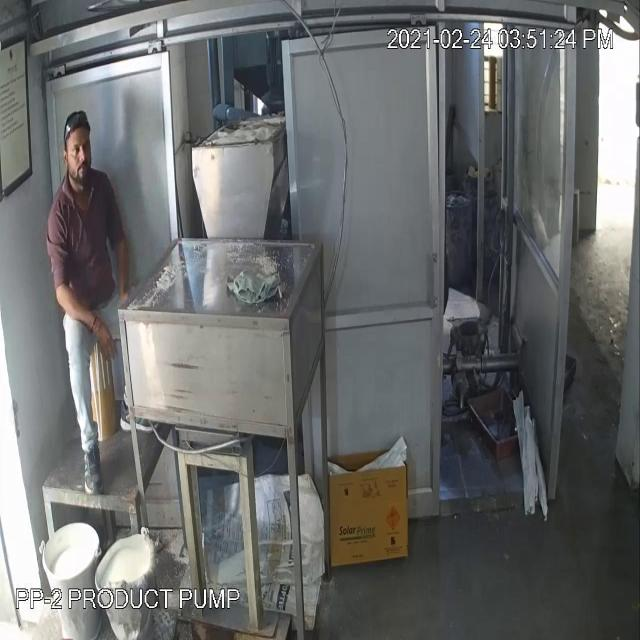no-helmet: (54, 95, 102, 162)
